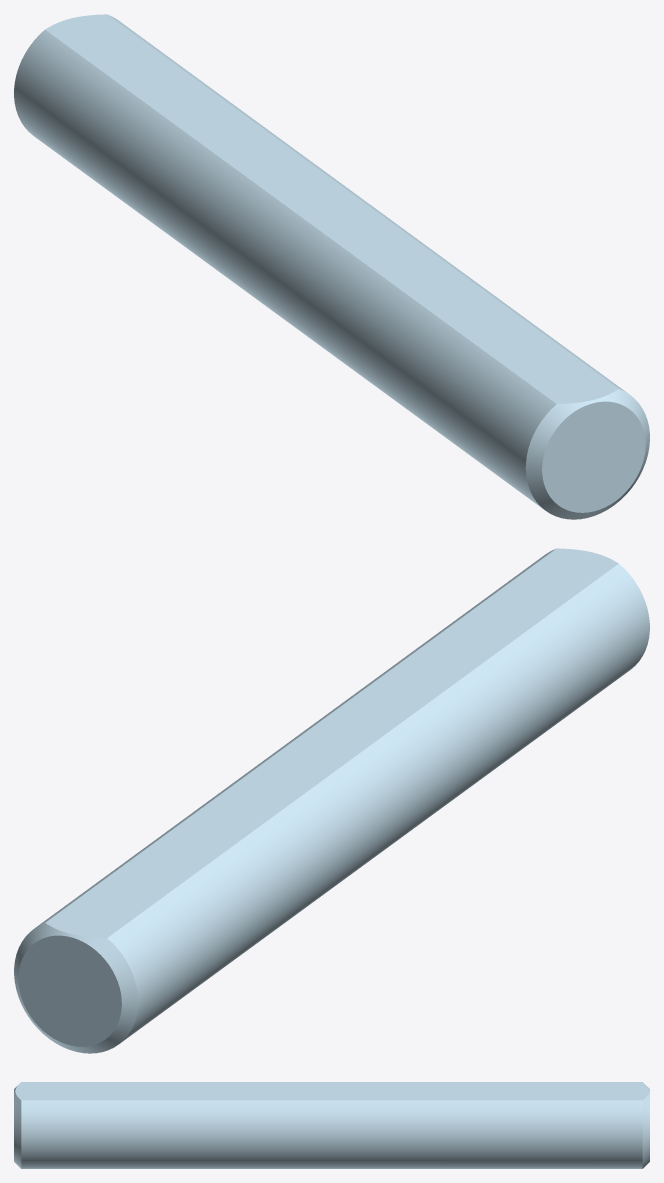
3 renders of one model, top to bottom at view 1: azimuth 30°, elevation 25°; view 2: azimuth 150°, elevation 25°; view 3: azimuth 270°, elevation 25°, orthographic. The views are drawn at different scales.
Parts seen in each view (by area): view 1: mesh4419, mesh4420, mesh4417, mesh4418; view 2: mesh4419, mesh4420, mesh4422, mesh4421; view 3: mesh4419, mesh4420, mesh4418, mesh4421.
Part boxes in pixels (bbox=[...]): mesh4419: bbox=[14, 15, 628, 509]; mesh4420: bbox=[45, 14, 618, 403]; mesh4417: bbox=[542, 401, 645, 512]; mesh4418: bbox=[525, 389, 649, 519]; mesh4419: bbox=[35, 549, 649, 1043]; mesh4420: bbox=[45, 548, 618, 937]; mesh4422: bbox=[18, 935, 121, 1046]; mesh4421: bbox=[14, 923, 138, 1053]; mesh4419: bbox=[21, 1100, 642, 1168]; mesh4420: bbox=[15, 1082, 648, 1100]; mesh4418: bbox=[14, 1086, 21, 1168]; mesh4421: bbox=[642, 1086, 649, 1168].
Size of the model in its own units: 0.012 by 0.0112 by 0.0876.
